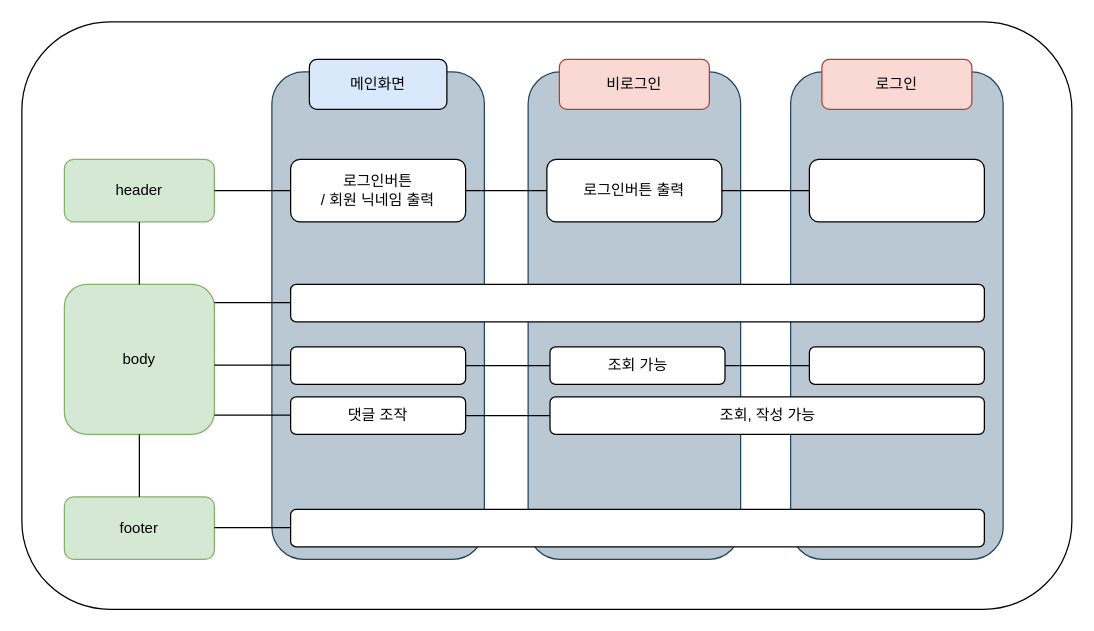
This 1094x631 diagram has some shape labels left out. Each missing label, with the centre of its shape:
"게시글 번호 / 제목 / 작성자(닉네임) / 조회수 / 댓글수 / 등록일 출력" belongs at point (636, 302).
"게시글 조작" belongs at point (377, 365).
"조회, 수정, 삭제 가능" belongs at point (896, 365).
"총 게시글 수 조회 가능" belongs at point (636, 527).
"회원 닉네임 출력" belongs at point (896, 190).
